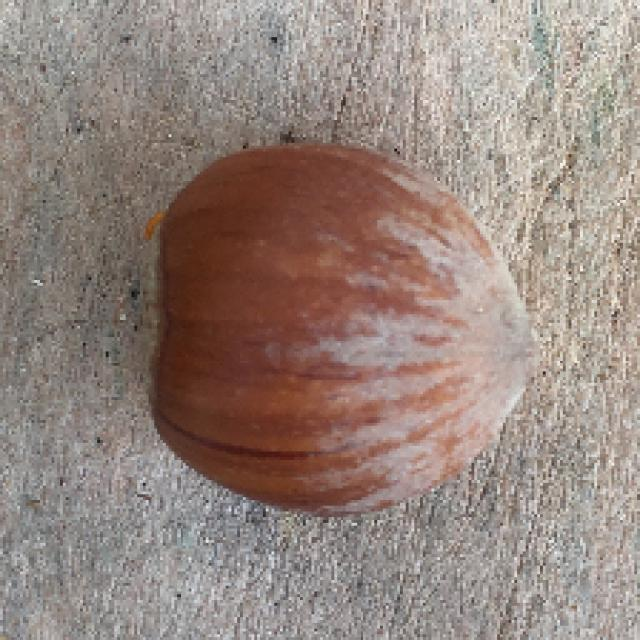qualityHazelnut: (134, 142, 535, 537)
